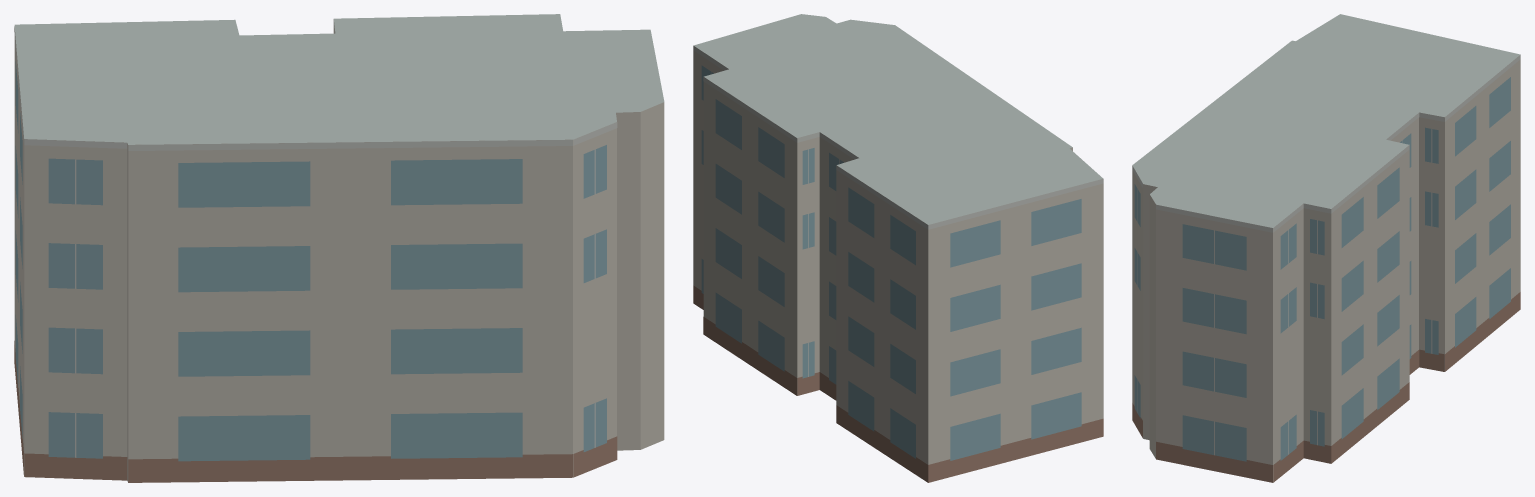
The model's file is survey-upis-32893753.glb.
3 views of the same model, side by side, from view 1: azimuth 30°, elevation 25°; view 2: azimuth 150°, elevation 25°; view 3: azimuth 270°, elevation 25° (orthographic). The views are drawn at different scales.
Parts seen in each view (by area): view 1: survey-upis-32893753.tmp; view 2: survey-upis-32893753.tmp; view 3: survey-upis-32893753.tmp.
Part boxes in pixels (x1=…): survey-upis-32893753.tmp: x1=14, y1=14, x2=664, y2=482; survey-upis-32893753.tmp: x1=693, y1=14, x2=1103, y2=482; survey-upis-32893753.tmp: x1=1132, y1=14, x2=1520, y2=482.
Bounding box in the file's own units: 23.74 × 13.17 × 18.2.
